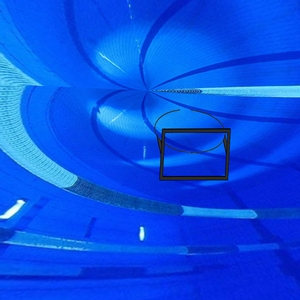circle: (154, 108, 232, 183)
